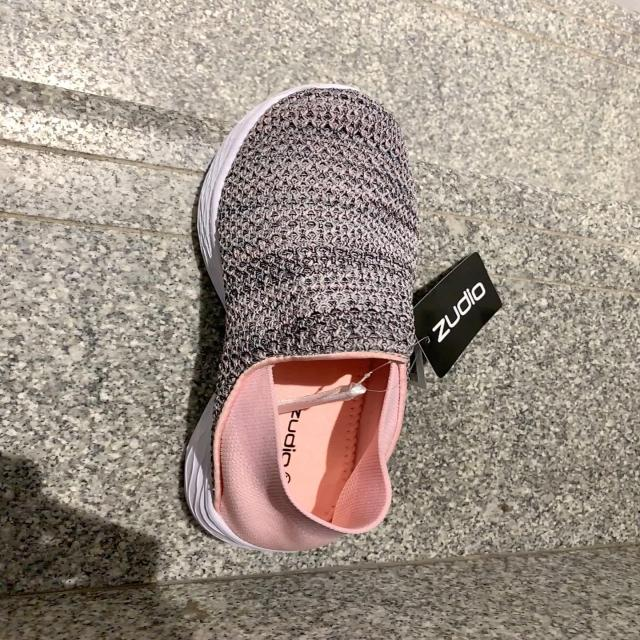shoe: (178, 84, 419, 555)
